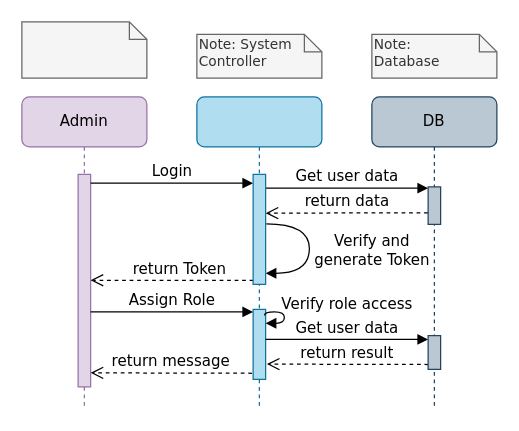
The diagram is 519 pixels wide and 431 high, and some of its shapes have lost their labels. The box of each missing label's shape, as (x1, y1, x2, y2) in pixels:
Note: Role with supreme authority: (21, 21, 147, 78)
System: (196, 96, 322, 409)
